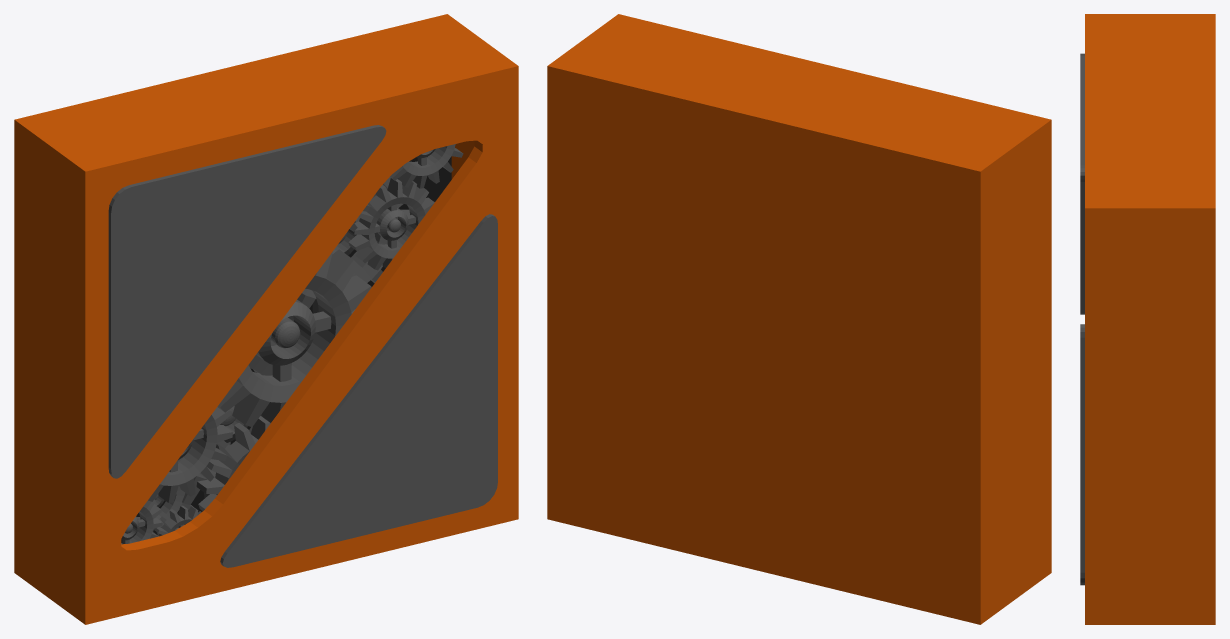
The model's file is Gate.fbx.
3 renders of one model, left to right at view 1: azimuth 30°, elevation 25°; view 2: azimuth 150°, elevation 25°; view 3: azimuth 270°, elevation 25°, orthographic. The views are drawn at different scales.
Visible parts, largest first — view 1: Gate, Cube, Cog, Cog.002, Cog.004, Cog.005, Cog.003, Cog.008, Cog.006, Cog.009; view 2: Gate; view 3: Gate, Cube.
Boxes of the visible parts, box(x1,y1,x2,y2) form: Gate: box(14, 14, 518, 624); Cube: box(108, 125, 497, 567); Cog: box(217, 249, 371, 426); Cog.002: box(348, 178, 434, 270); Cog.004: box(148, 407, 232, 502); Cog.005: box(196, 416, 270, 510); Cog.003: box(390, 143, 463, 188); Cog.008: box(288, 177, 416, 321); Cog.006: box(121, 499, 162, 544); Cog.009: box(178, 340, 293, 504); Gate: box(547, 14, 1051, 624); Gate: box(1085, 14, 1215, 624); Cube: box(1080, 53, 1084, 585).
Size of the model in its own units: 2 by 2 by 0.5892.
